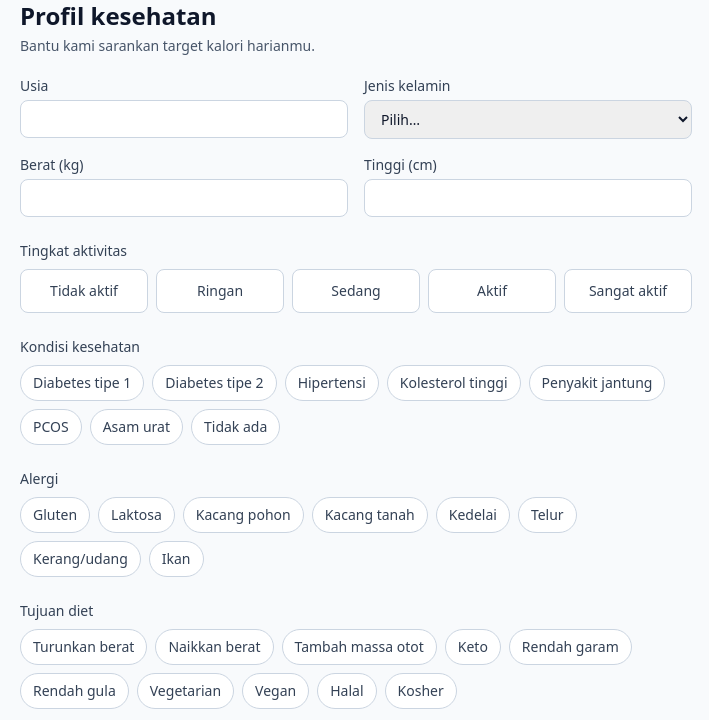
it: ProfilePage › on submit (non-firstRun) shows the "Profil tersimpan." toast
This screenshot has width=709, height=720.
Type "28" into the number field labelled "Usia" at point(184, 119), box [20,100,348,138]
(page scrolled)
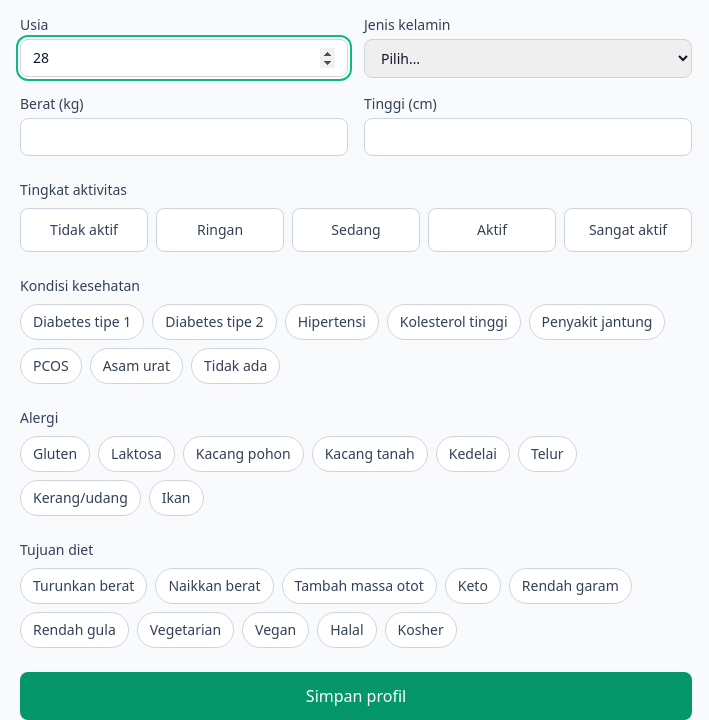
Click the button "Simpan profil" at point(356, 696), box [20,672,692,719]
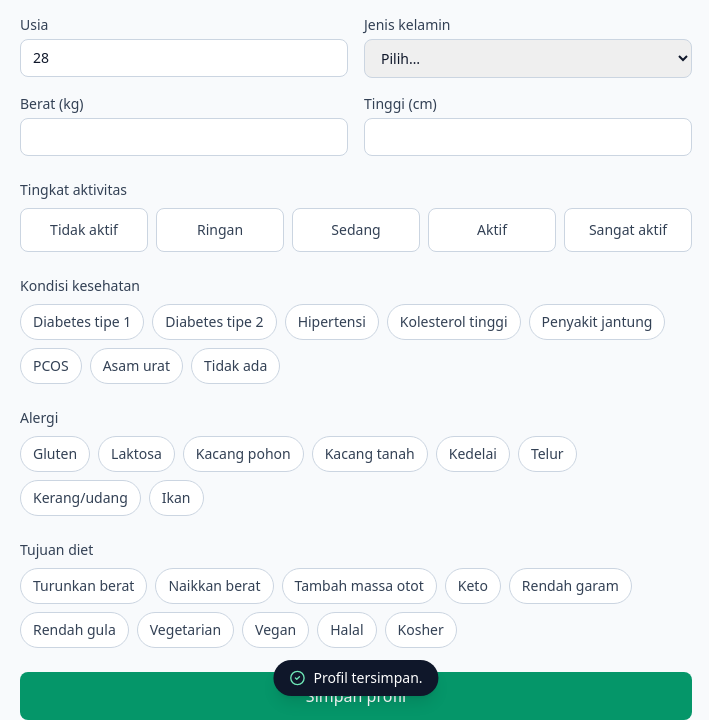
Expected: the text "Profil tersimpan." is shown, [273,660,438,696]
